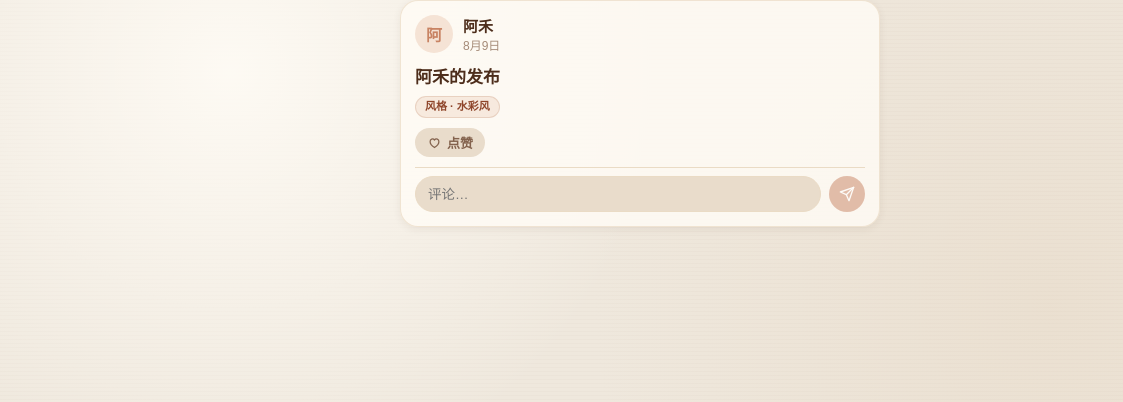
it: InlineComments retry › a failed comment keeps the draft and reuses the same request id on retry
Type "真好" into the field labelled "评论" at (618, 194), box left=415, top=176, right=821, bottom=212
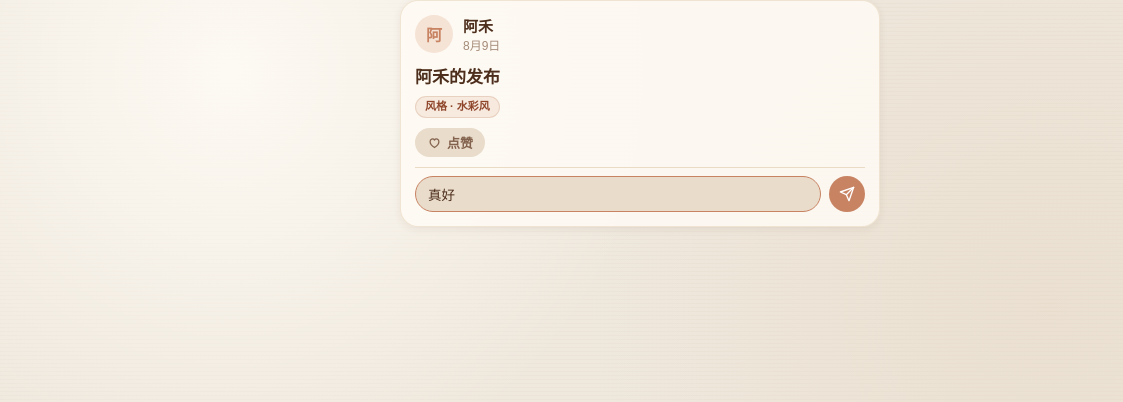
Click the button named "发送评论" at (847, 194), box left=829, top=176, right=865, bottom=212
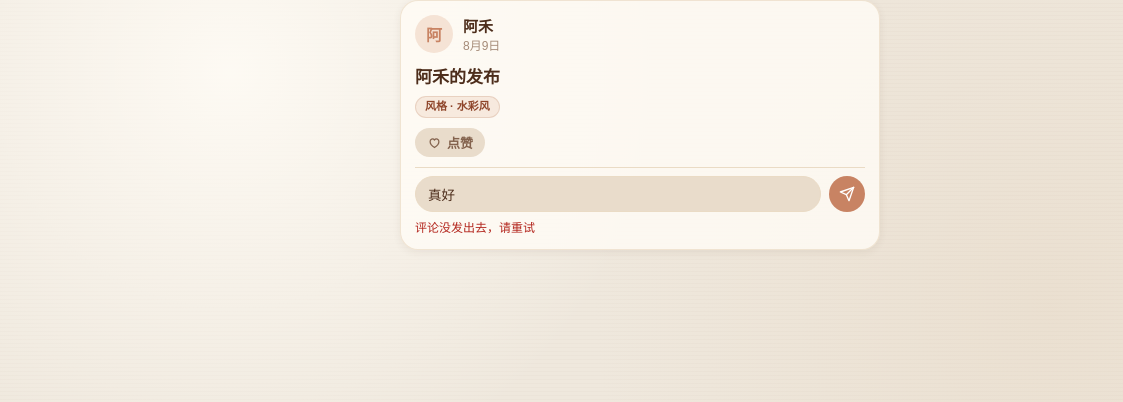
Expected: the message reads "评论没发出去，请重试", left=415, top=221, right=535, bottom=235
Click the button named "发送评论" at (847, 194), box left=829, top=176, right=865, bottom=212
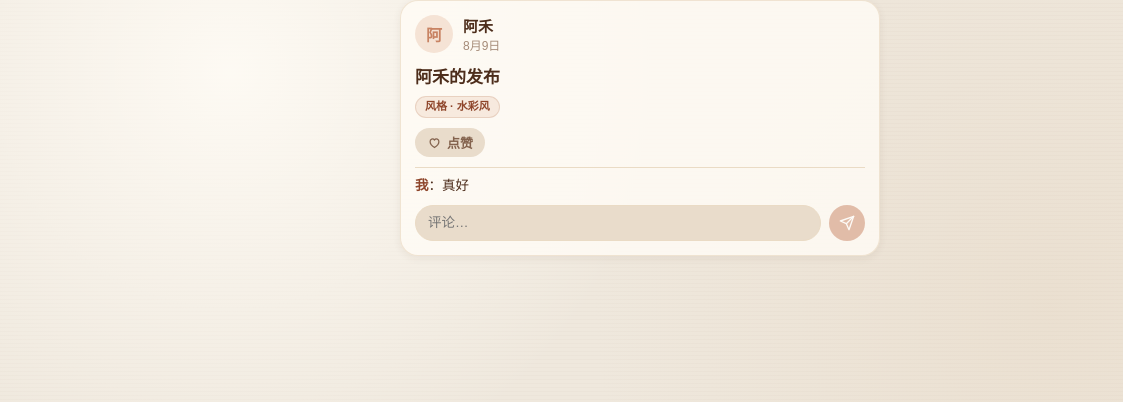
Expected: the field labelled "评论" is empty, left=415, top=205, right=821, bottom=241
